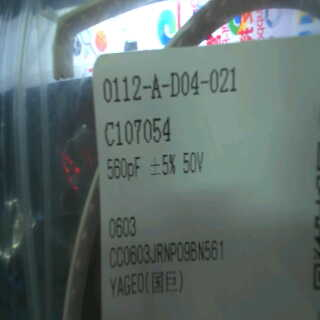560pF: (103, 151, 143, 188)
